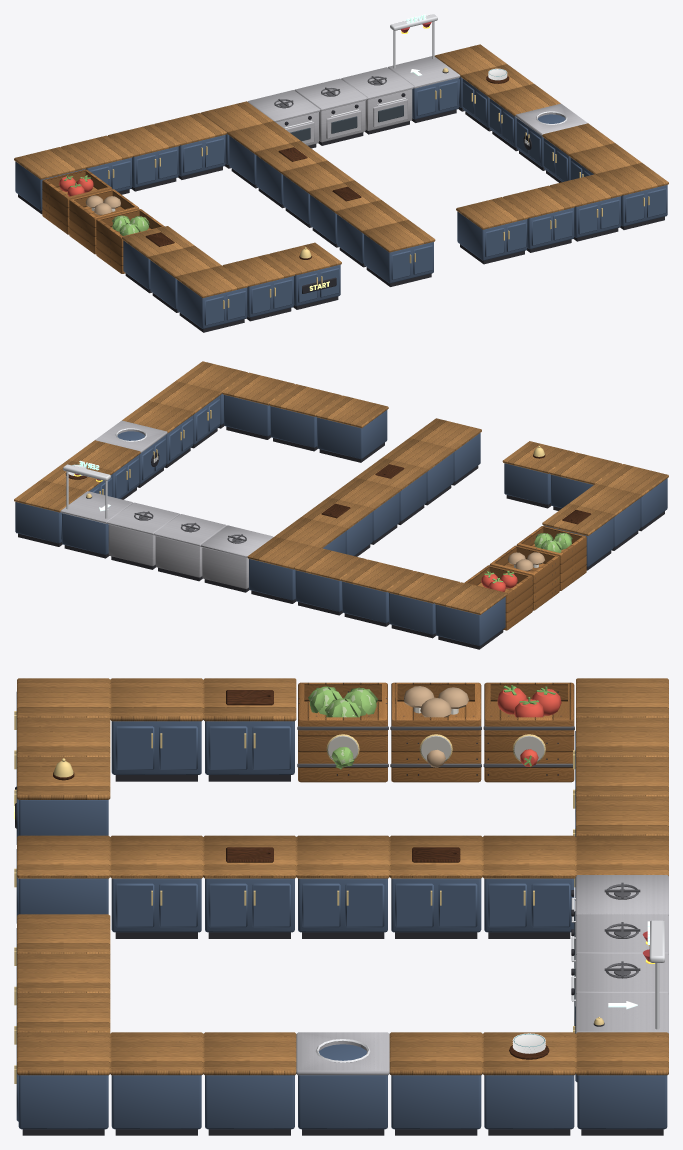
The model's file is kr_layB_st.glb.
3 views of the same model, one above another, from view 1: azimuth 30°, elevation 25°; view 2: azimuth 150°, elevation 25°; view 3: azimuth 270°, elevation 25° (orthographic). The views are drawn at different scales.
Visible parts, largest first — view 1: vc_m0_r4, kr_layB_st_butcher, kr_layB_st_steel, kr_layB_st_planks, vc_m8_r2, kr_layB_st_darkwood, vc_m0_r2, vc_m0_r6; view 2: vc_m0_r4, kr_layB_st_butcher, kr_layB_st_steel, kr_layB_st_planks, vc_m8_r2, kr_layB_st_darkwood, vc_m0_r6, vc_m0_r2; view 3: kr_layB_st_butcher, vc_m0_r4, kr_layB_st_planks, kr_layB_st_steel, vc_m8_r4, vc_m8_r2, kr_layB_st_darkwood, vc_m0_r2, vc_m0_r6.
Part boxes in pixels (box(x1,y1,x2,y2)): vc_m0_r4: box(15, 21, 667, 332); kr_layB_st_butcher: box(14, 44, 668, 298); kr_layB_st_steel: box(247, 56, 587, 145); kr_layB_st_planks: box(42, 169, 164, 273); vc_m8_r2: box(108, 14, 649, 308); kr_layB_st_darkwood: box(145, 75, 509, 259); vc_m0_r2: box(59, 68, 529, 196); vc_m0_r6: box(64, 175, 120, 215); vc_m0_r4: box(15, 394, 667, 649); kr_layB_st_butcher: box(14, 361, 668, 614); kr_layB_st_steel: box(60, 420, 273, 588); kr_layB_st_planks: box(464, 526, 586, 630); vc_m8_r2: box(63, 410, 544, 518); kr_layB_st_darkwood: box(65, 454, 590, 524); vc_m0_r6: box(484, 552, 544, 583); vc_m0_r2: box(68, 456, 517, 591); kr_layB_st_butcher: box(17, 678, 668, 1075); vc_m0_r4: box(15, 686, 667, 1135); kr_layB_st_planks: box(298, 682, 574, 782); kr_layB_st_steel: box(296, 875, 668, 1075); vc_m8_r4: box(297, 726, 640, 978); vc_m8_r2: box(14, 711, 664, 1083); kr_layB_st_darkwood: box(53, 690, 549, 1059); vc_m0_r2: box(497, 687, 561, 1053); vc_m0_r6: box(404, 685, 555, 767).
Size of the model in its own units: 12 by 2.14 by 8.44.
Materials: 12 (4 with a texture image).
